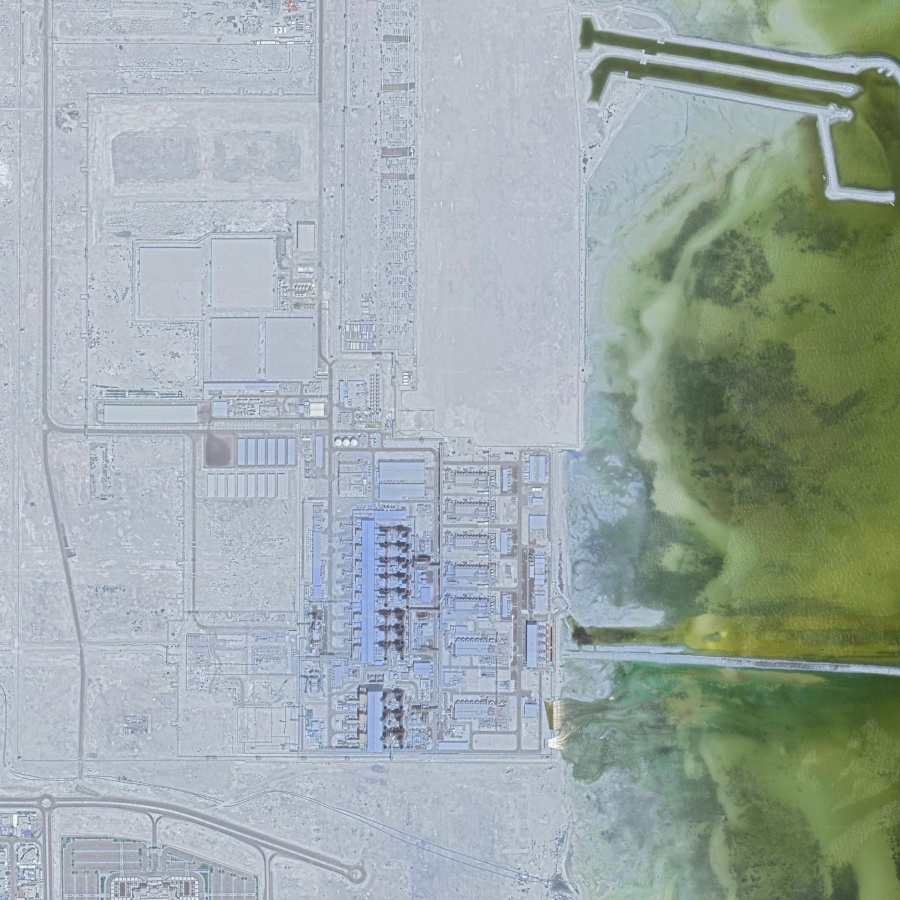PowerPlant: (322, 427, 584, 753)
